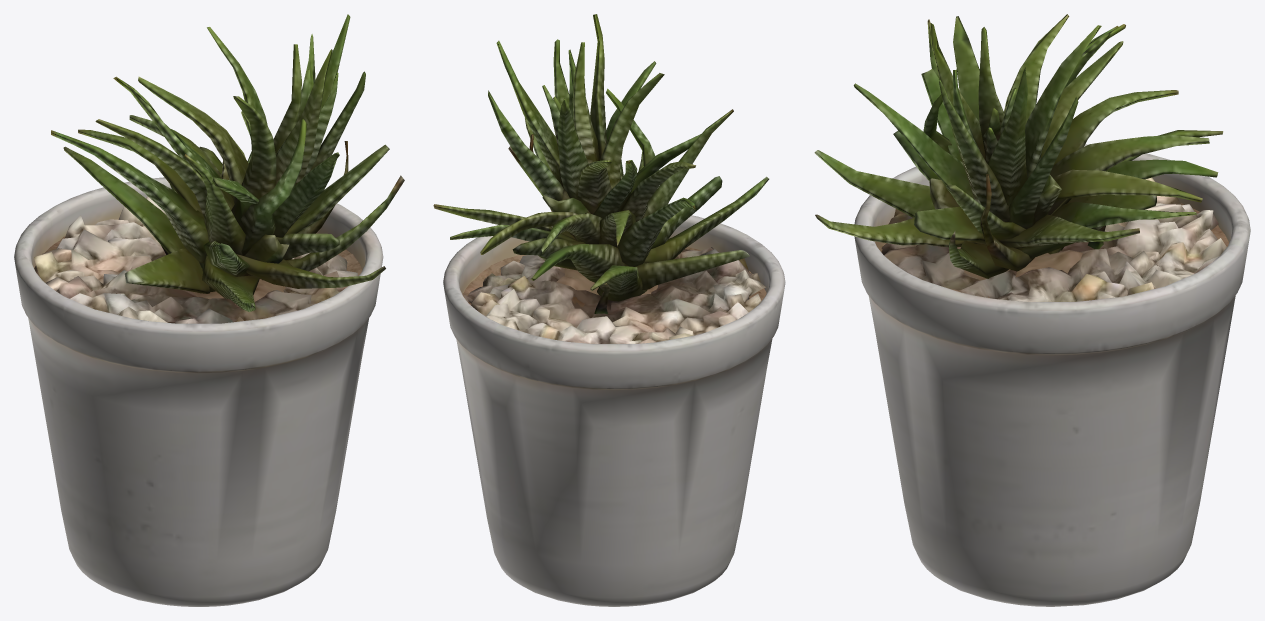
Rendered from pot3.glb.
3 renders of one model, left to right at view 1: azimuth 30°, elevation 25°; view 2: azimuth 150°, elevation 25°; view 3: azimuth 270°, elevation 25°, orthographic. The views are drawn at different scales.
Visible parts, largest first — view 1: potted_plant_04_pot, potted_plant_04_plant, potted_plant_04_ground, potted_plant_04_dirt; view 2: potted_plant_04_pot, potted_plant_04_plant, potted_plant_04_ground, potted_plant_04_dirt; view 3: potted_plant_04_pot, potted_plant_04_plant, potted_plant_04_ground, potted_plant_04_dirt.
Part boxes in pixels (<box>): potted_plant_04_pot: <box>14,177,383,606</box>; potted_plant_04_plant: <box>51,14,404,311</box>; potted_plant_04_ground: <box>34,196,357,323</box>; potted_plant_04_dirt: <box>34,219,362,304</box>; potted_plant_04_pot: <box>443,215,785,606</box>; potted_plant_04_plant: <box>433,14,769,313</box>; potted_plant_04_ground: <box>463,247,766,343</box>; potted_plant_04_dirt: <box>462,247,766,306</box>; potted_plant_04_pot: <box>854,144,1250,606</box>; potted_plant_04_plant: <box>814,14,1223,278</box>; potted_plant_04_ground: <box>881,177,1226,301</box>; potted_plant_04_dirt: <box>875,203,1228,297</box>.
Size of the model in its own units: 0.1679 by 0.2672 by 0.1845.
Materials: 1 (1 with a texture image).
